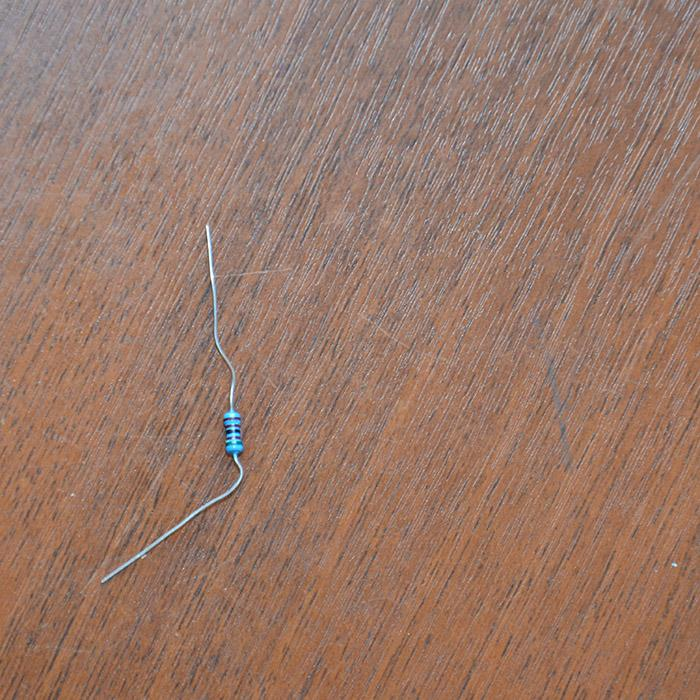resistor: (221, 409, 244, 455)
